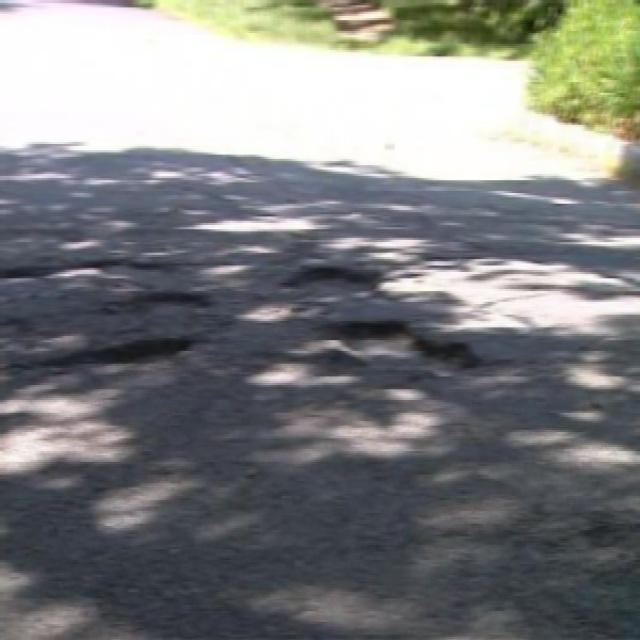Pothole: (310, 310, 502, 384), (0, 324, 216, 381), (264, 248, 419, 303), (0, 250, 151, 286), (123, 276, 210, 320)
